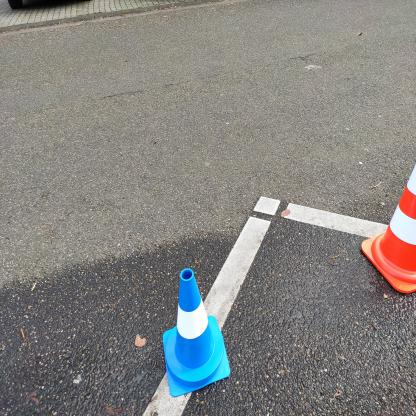Cones_small_blue: (160, 253, 232, 397)
